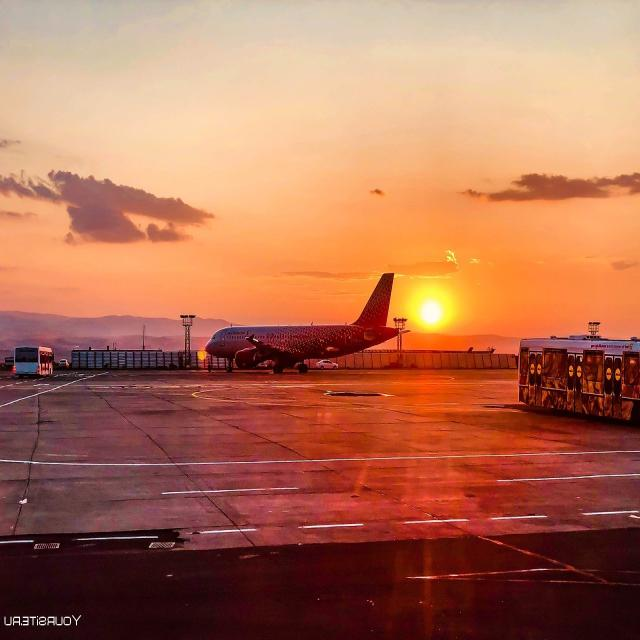plain: (196, 254, 407, 371)
